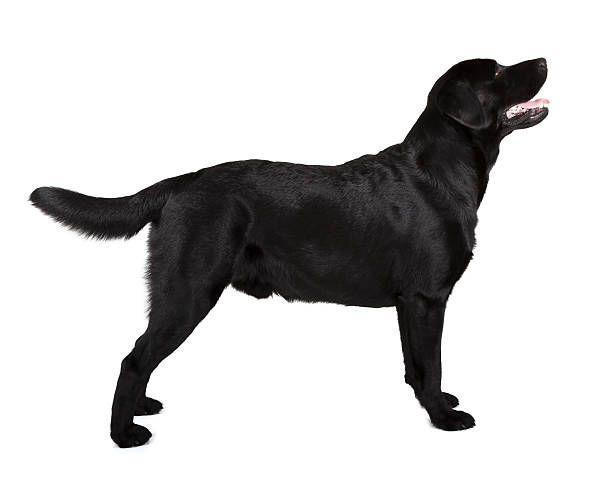adult_dog: (26, 54, 553, 449)
